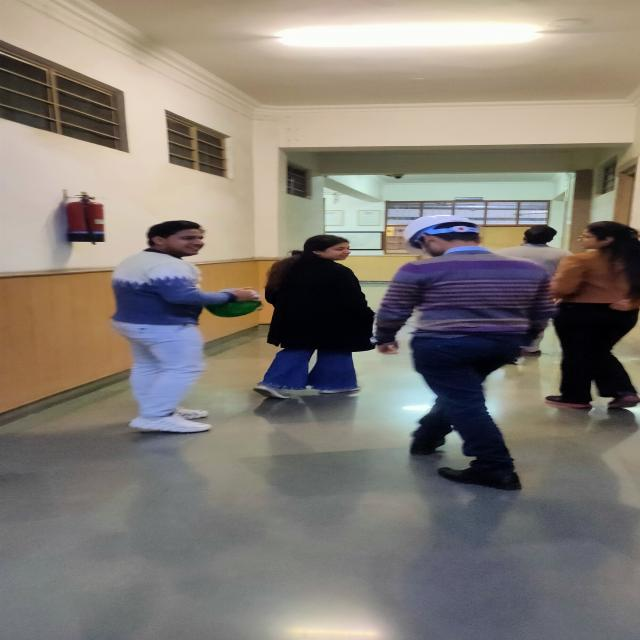no jacket: (376, 215, 551, 492)
unsafe: (111, 220, 259, 434), (259, 235, 372, 398), (551, 222, 640, 408), (491, 224, 573, 254)
